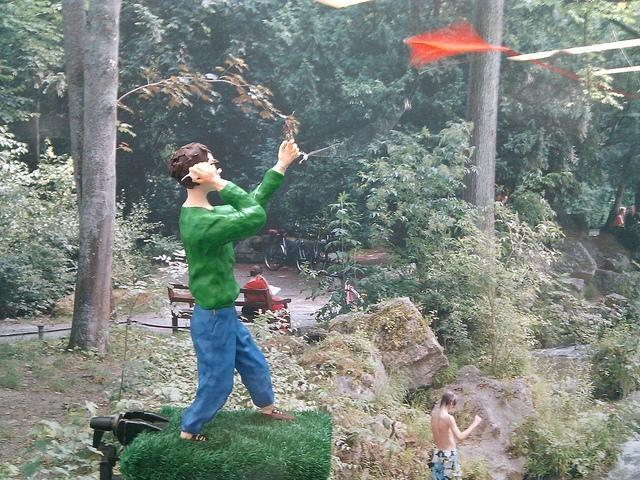bicycle: (264, 220, 314, 272), (332, 260, 364, 306), (312, 231, 339, 263)
